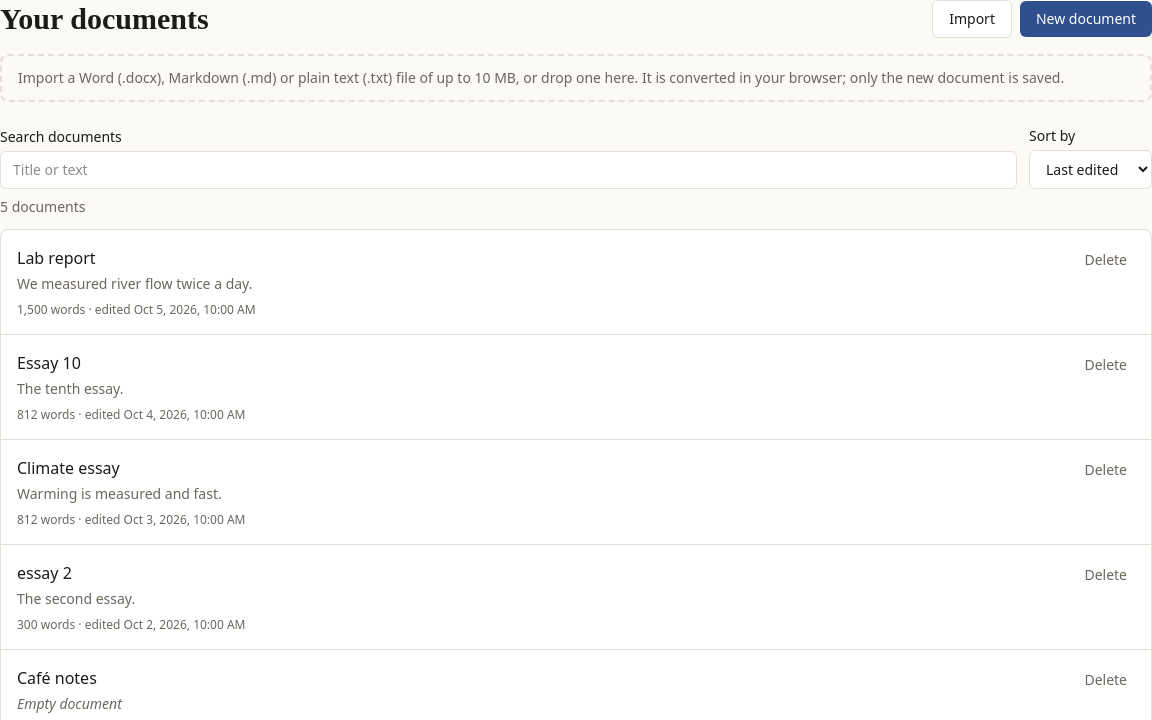
the library's search and sort › filters as you type, with a count and a message when nothing matches
Expected: the message with test id "library-count" reads "5 documents", x1=0 y1=197 x2=86 y2=216
Type "essay" into the search field labelled "Search documents" at (508, 170), box x1=0 y1=151 x2=1017 y2=189
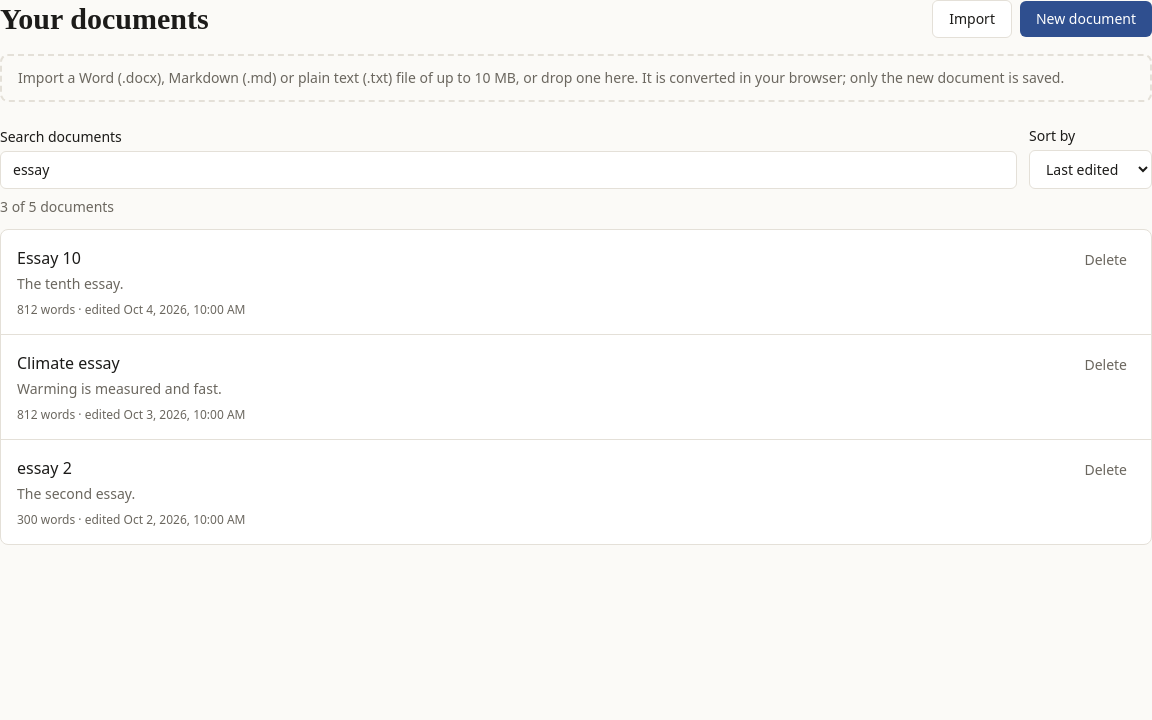
Now the message with test id "library-count" reads "3 of 5 documents", box x1=0 y1=197 x2=114 y2=216
Replace the text in the search field labelled "Search documents" with "zebra" at (508, 170), box x1=0 y1=151 x2=1017 y2=189
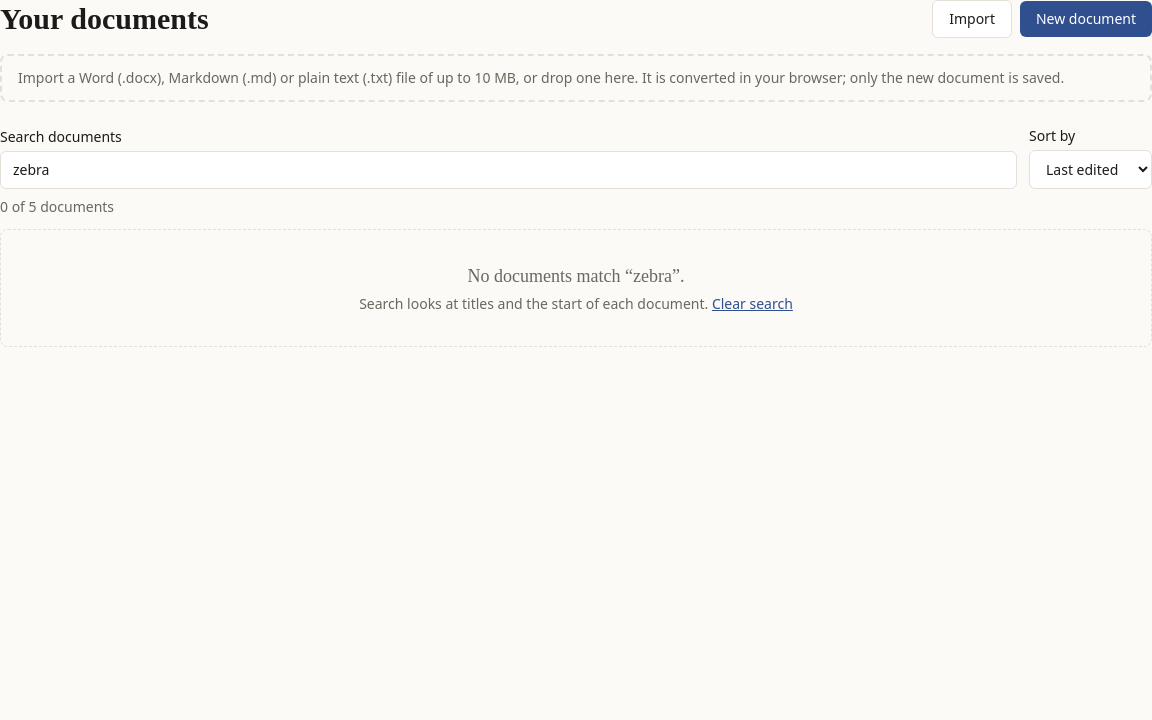
Now the text "No documents match “zebra”." is shown, box x1=468 y1=266 x2=684 y2=286
Click the button "Clear search" at (752, 304), box x1=712 y1=294 x2=793 y2=314
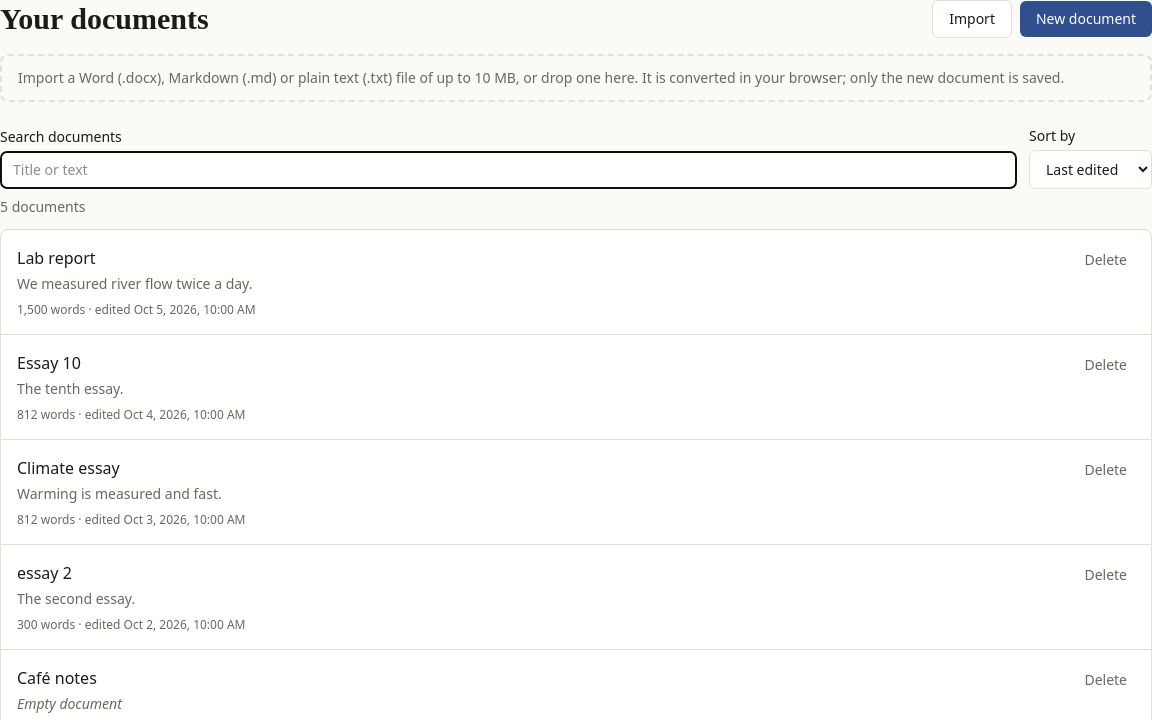
Now the search field labelled "Search documents" is empty, box x1=0 y1=151 x2=1017 y2=189
